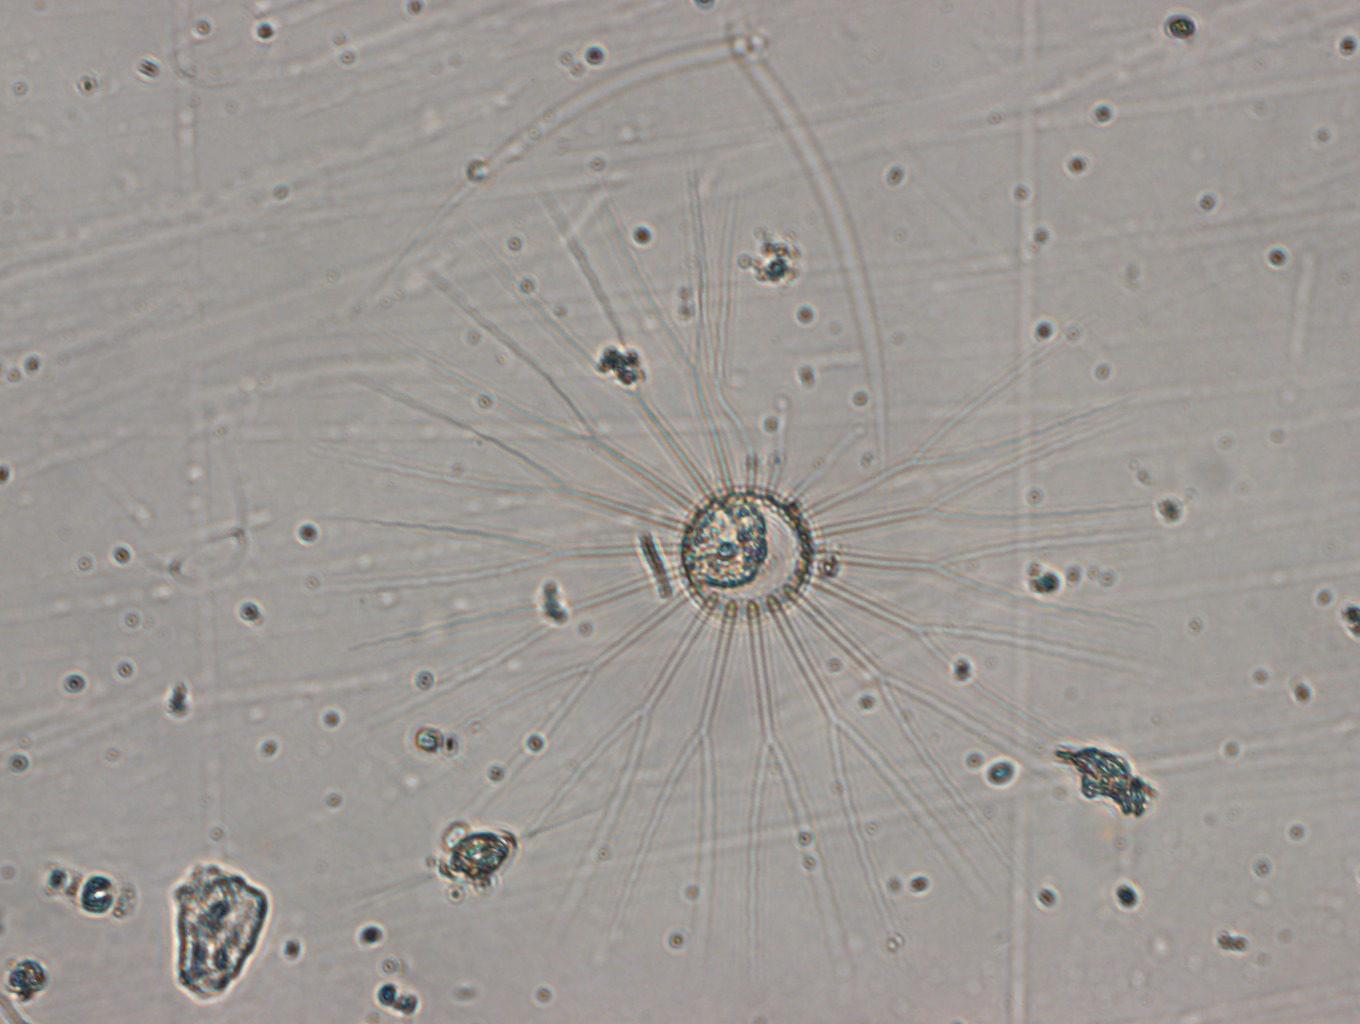bacteriastrum: (337, 174, 1183, 959)
